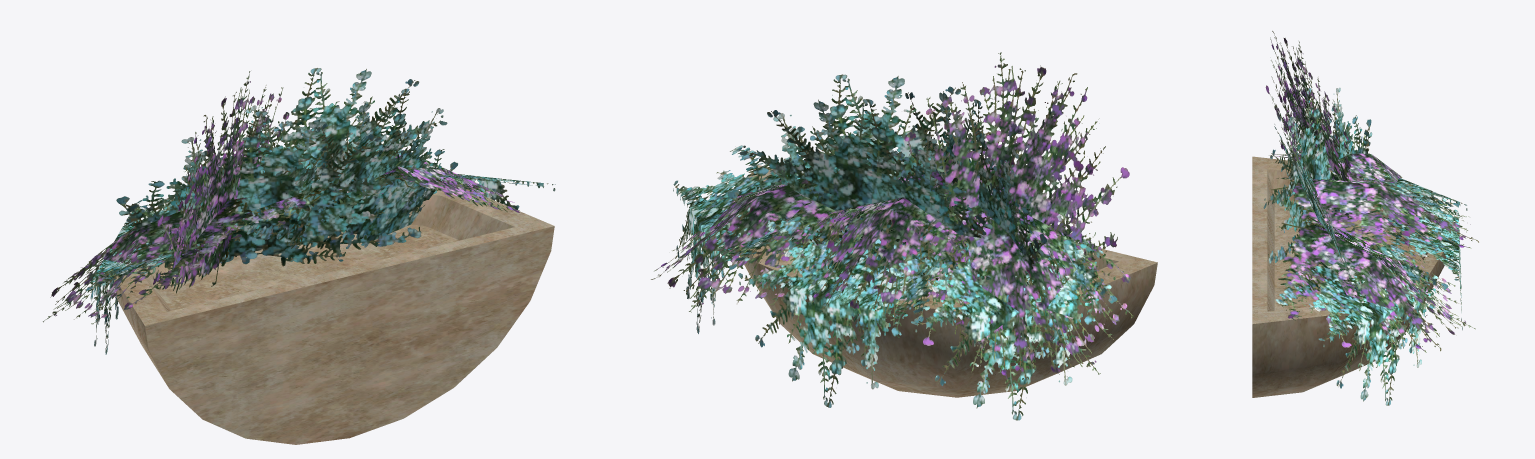
File: thm_tato_imprv_planter_hanging_s01_l0.fbx
3 renders of one model, left to right at view 1: azimuth 30°, elevation 25°; view 2: azimuth 150°, elevation 25°; view 3: azimuth 270°, elevation 25°, orthographic. The views are drawn at different scales.
Visible parts, largest first — view 1: mesh_node; view 2: mesh_node; view 3: mesh_node.
Part boxes in pixels (x1=…): mesh_node: x1=43, y1=68, x2=555, y2=444; mesh_node: x1=651, y1=52, x2=1157, y2=420; mesh_node: x1=1252, y1=31, x2=1478, y2=405.
Size of the model in its own units: 1.34 by 0.9149 by 0.7746.
Materials: 3 (3 with a texture image).
